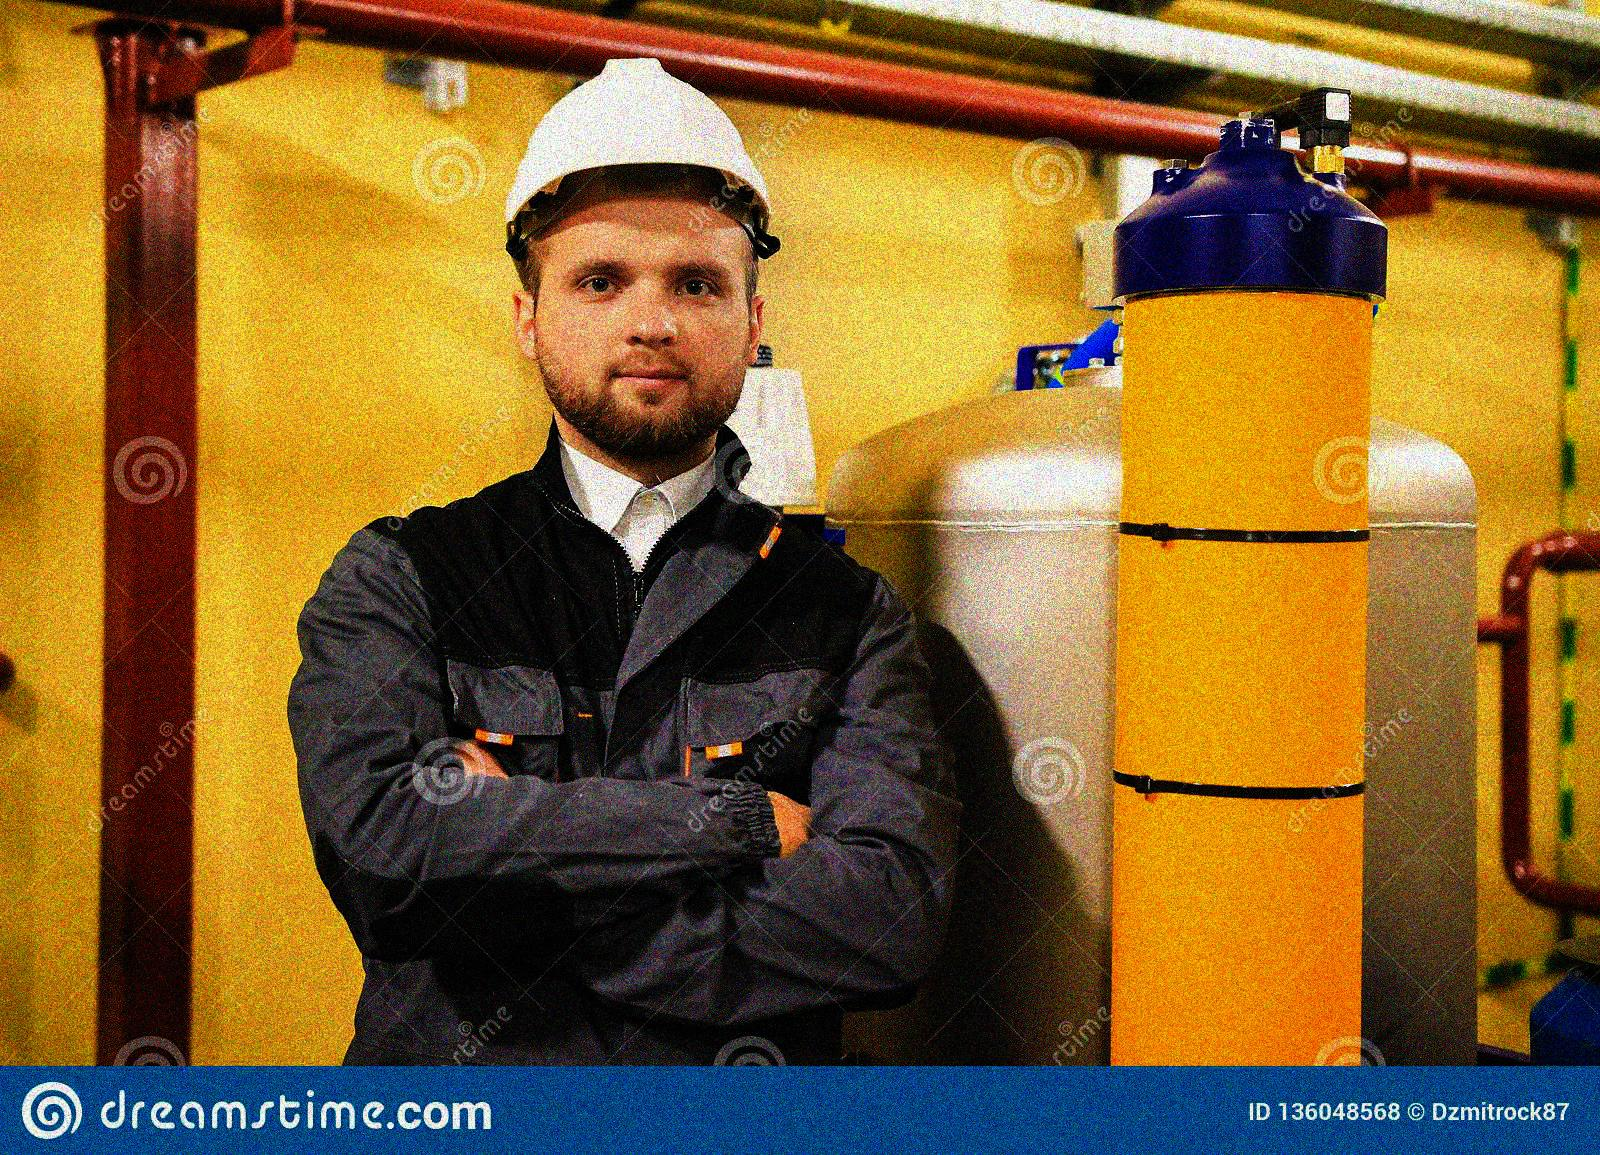helmet: (502, 57, 785, 430)
